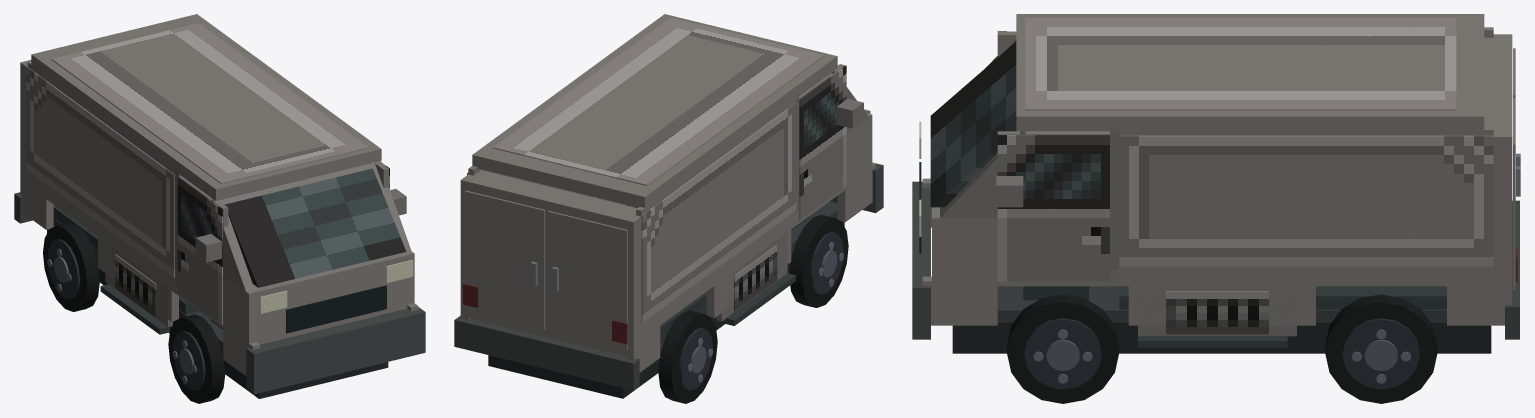
Rendered from CMU3DRMCPropVehicleBoxVanWhite.glb.
3 views of the same model, side by side, from view 1: azimuth 30°, elevation 25°; view 2: azimuth 150°, elevation 25°; view 3: azimuth 270°, elevation 25° (orthographic). The views are drawn at different scales.
Visible parts, largest first — view 1: original roof panel, original cargo side -1, continuous sloping windshield, roof slab, front bumper, front cab lower, original cab door -1, front glazing surround, tire 2 -1, tire 1 -1, upper wheel rail -1, front grille (+16 smaller); view 2: original roof panel, original cargo side -1, roof slab, rear door panel 1, rear door panel -1, rear closure, rear bumper, original cab door -1, tire 2 -1, upper wheel rail -1, tire 1 -1, ladder chassis (+14 smaller); view 3: original cargo side 1, original roof panel, original cab door 1, roof slab, continuous sloping windshield, upper wheel rail 1, rear closure, ladder chassis, tire 2 1, tire 1 1, cargo side shell 1, lower skirt 1 1 (+20 smaller).
Boxes of the visible parts, x1,y1,x2,y2 form: original roof panel: (51,23,368,184); original cargo side -1: (26,67,174,277); continuous sloping windshield: (225,168,406,287); roof slab: (31,14,381,200); front bumper: (246,307,425,394); front cab lower: (217,251,414,346); original cab door -1: (177,177,222,324); front glazing surround: (212,161,411,297); tire 2 -1: (43,222,99,311); tire 1 -1: (168,314,225,403); upper wheel rail -1: (24,170,256,346); front grille: (286,285,386,333); original roof panel: (493,18,823,185); original cargo side -1: (641,103,796,322); roof slab: (472,14,837,208); rear door panel 1: (464,190,545,329); rear door panel -1: (547,210,627,350); rear closure: (460,170,648,358); rear bumper: (454,315,639,390); original cab door -1: (799,65,846,219); tire 2 -1: (658,310,717,403); upper wheel rail -1: (637,157,872,341); tire 1 -1: (789,214,848,307); ladder chassis: (488,221,844,398); original cargo side 1: (1119,135,1493,266); original roof panel: (1025,18,1456,110); original cab door 1: (997,135,1109,281); roof slab: (1016,14,1484,131); continuous sloping windshield: (930,42,1016,207); upper wheel rail 1: (932,270,1502,286); rear closure: (1475,34,1512,302); ladder chassis: (952,323,1491,353); tire 2 1: (1325,294,1437,403); tire 1 1: (1007,294,1119,403); cargo side shell 1: (1119,126,1493,275); lower skirt 1 1: (1128,281,1315,325).
Bounding box in the file's own units: 0.98 × 1.05 × 2.03.
25 materials, 5 textured.
